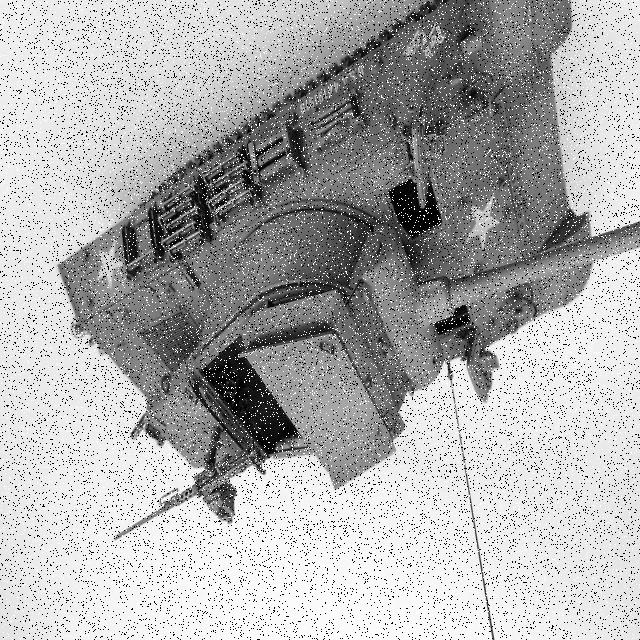MIL_MBT: (60, 17, 588, 554)
